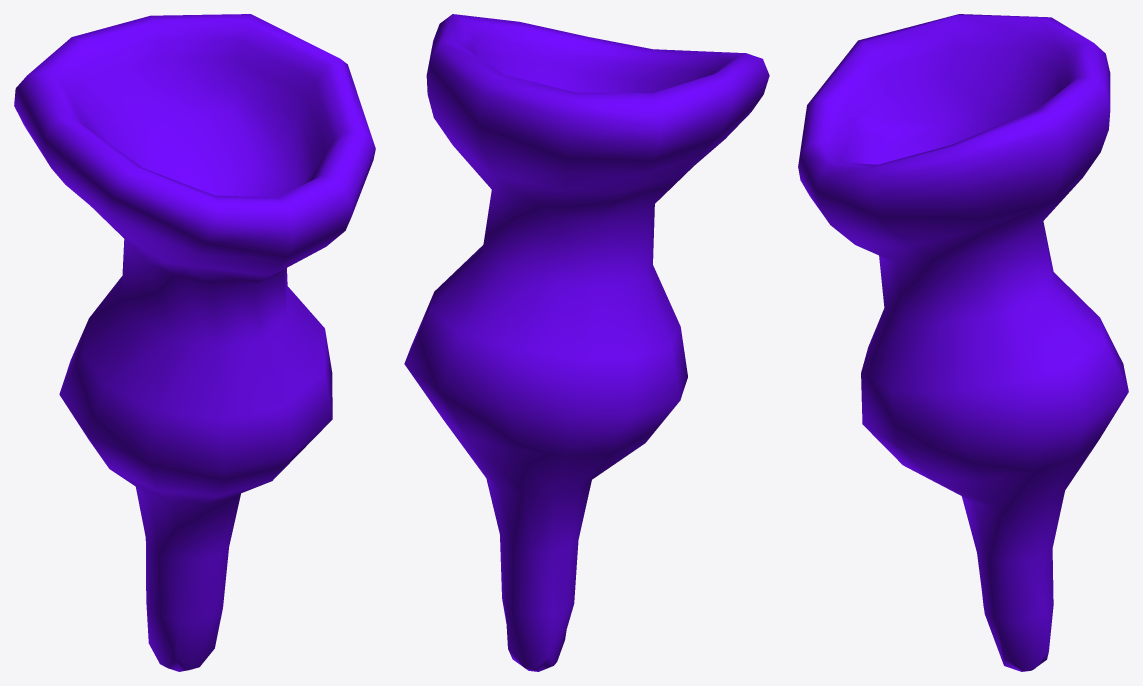
The model's file is SM_tete_grimpante.fbx.
3 views of the same model, side by side, from view 1: azimuth 30°, elevation 25°; view 2: azimuth 150°, elevation 25°; view 3: azimuth 270°, elevation 25° (orthographic). The views are drawn at different scales.
Parts seen in each view (by area): view 1: Tete_grimpante_low016; view 2: Tete_grimpante_low016; view 3: Tete_grimpante_low016.
Boxes of the visible parts, left/top/right/bottom form: Tete_grimpante_low016: left=14, top=14, right=375, bottom=671; Tete_grimpante_low016: left=404, top=14, right=769, bottom=671; Tete_grimpante_low016: left=798, top=14, right=1128, bottom=671.
Bounding box in the file's own units: 29.81 × 58.86 × 29.63.
